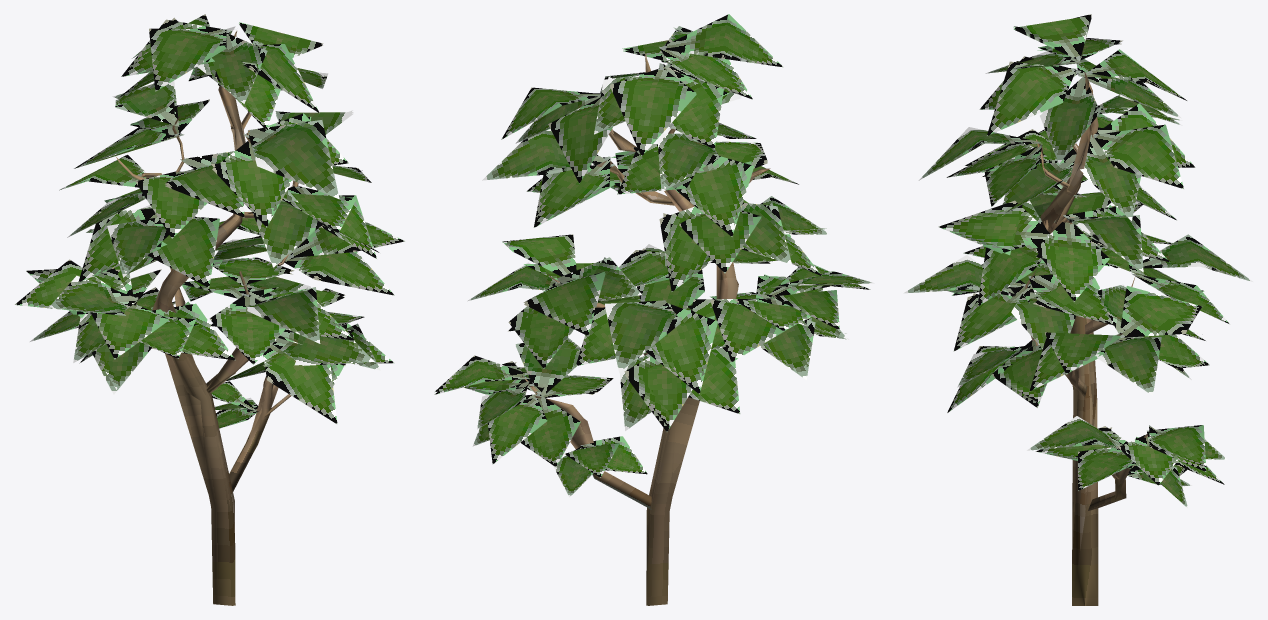
The model's file is plants_un_plant02_green.gltf.
3 views of the same model, side by side, from view 1: azimuth 30°, elevation 25°; view 2: azimuth 150°, elevation 25°; view 3: azimuth 270°, elevation 25° (orthographic). The views are drawn at different scales.
Visible parts, largest first — view 1: um_plants_un_plant02_green_model_lod2Shape:plants_un_plant02 (×2), um_plants_un_plant02_green_model_lod0Shape:plants_un_plant02 (×2), um_plants_un_plant02_green_model_lod1Shape:plants_un_plant02 (×2); view 2: um_plants_un_plant02_green_model_lod2Shape:plants_un_plant02 (×2), um_plants_un_plant02_green_model_lod0Shape:plants_un_plant02 (×2), um_plants_un_plant02_green_model_lod1Shape:plants_un_plant02 (×2); view 3: um_plants_un_plant02_green_model_lod2Shape:plants_un_plant02 (×2), um_plants_un_plant02_green_model_lod0Shape:plants_un_plant02 (×2), um_plants_un_plant02_green_model_lod1Shape:plants_un_plant02 (×2).
Boxes of the visible parts, bbox=[...] form: um_plants_un_plant02_green_model_lod2Shape:plants_un_plant02 (×2): bbox=[15, 14, 404, 605]; um_plants_un_plant02_green_model_lod0Shape:plants_un_plant02 (×2): bbox=[26, 19, 399, 605]; um_plants_un_plant02_green_model_lod1Shape:plants_un_plant02 (×2): bbox=[20, 31, 353, 604]; um_plants_un_plant02_green_model_lod2Shape:plants_un_plant02 (×2): bbox=[434, 18, 873, 605]; um_plants_un_plant02_green_model_lod0Shape:plants_un_plant02 (×2): bbox=[434, 14, 872, 605]; um_plants_un_plant02_green_model_lod1Shape:plants_un_plant02 (×2): bbox=[486, 48, 837, 512]; um_plants_un_plant02_green_model_lod2Shape:plants_un_plant02 (×2): bbox=[904, 15, 1252, 563]; um_plants_un_plant02_green_model_lod0Shape:plants_un_plant02 (×2): bbox=[906, 14, 1249, 605]; um_plants_un_plant02_green_model_lod1Shape:plants_un_plant02 (×2): bbox=[906, 17, 1247, 605].
Size of the model in its own units: 0.692 by 1.03 by 0.5835.
2 materials, 2 textured.
